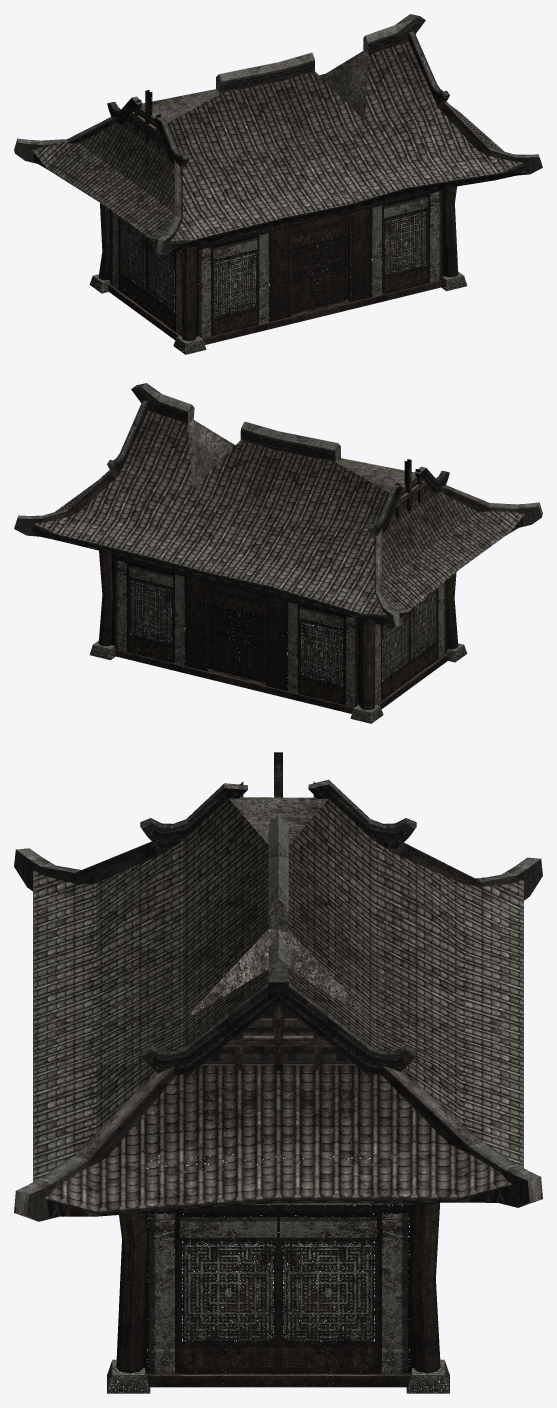
Rendered from ep-016-house9.fbx.
3 renders of one model, top to bottom at view 1: azimuth 30°, elevation 25°; view 2: azimuth 150°, elevation 25°; view 3: azimuth 270°, elevation 25°, orthographic. The views are drawn at different scales.
Parts seen in each view (by area): view 1: ep-016-house9; view 2: ep-016-house9; view 3: ep-016-house9.
Boxes of the visible parts, x1,y1,x2,y2 form: ep-016-house9: (14, 14, 542, 354); ep-016-house9: (14, 383, 542, 723); ep-016-house9: (14, 752, 542, 1393).
Size of the model in its own units: 11.71 by 6.85 by 7.76.
